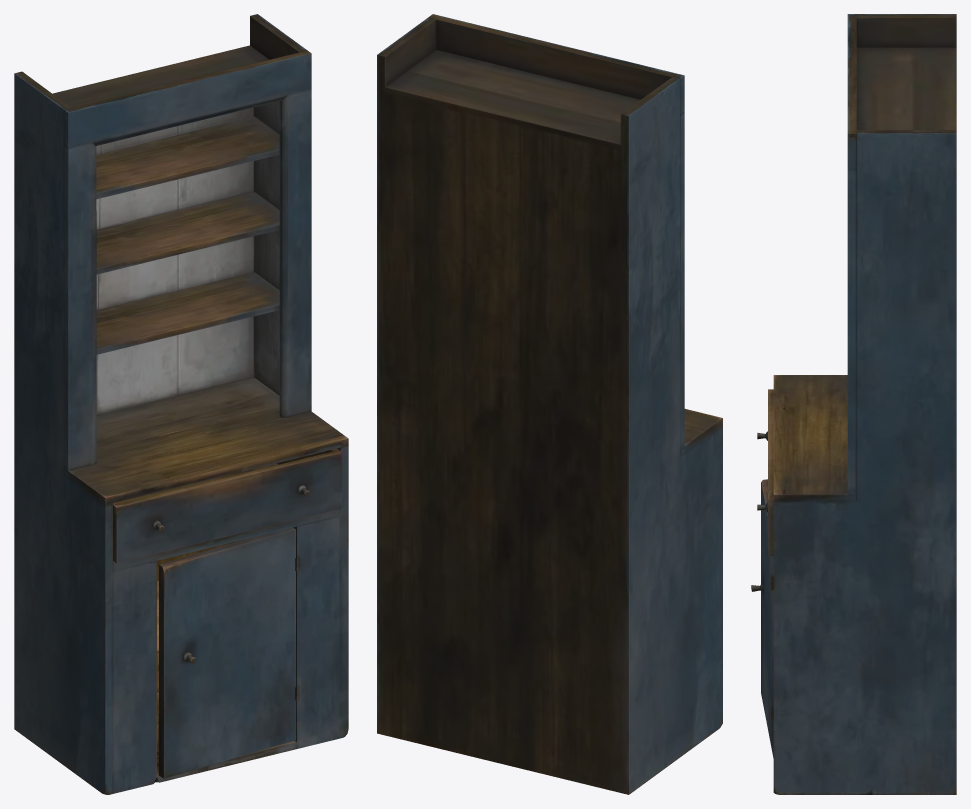
File: painted_wooden_cabinet_02.glb
3 views of the same model, side by side, from view 1: azimuth 30°, elevation 25°; view 2: azimuth 150°, elevation 25°; view 3: azimuth 270°, elevation 25° (orthographic). The views are drawn at different scales.
Visible parts, largest first — view 1: painted_wooden_cabinet_02; view 2: painted_wooden_cabinet_02; view 3: painted_wooden_cabinet_02.
Part boxes in pixels (bbox=[...]): painted_wooden_cabinet_02: bbox=[14, 14, 348, 794]; painted_wooden_cabinet_02: bbox=[377, 14, 722, 794]; painted_wooden_cabinet_02: bbox=[751, 14, 956, 794].
Size of the model in its own units: 0.9969 by 2.57 by 0.7223.
Materials: 1 (1 with a texture image).
